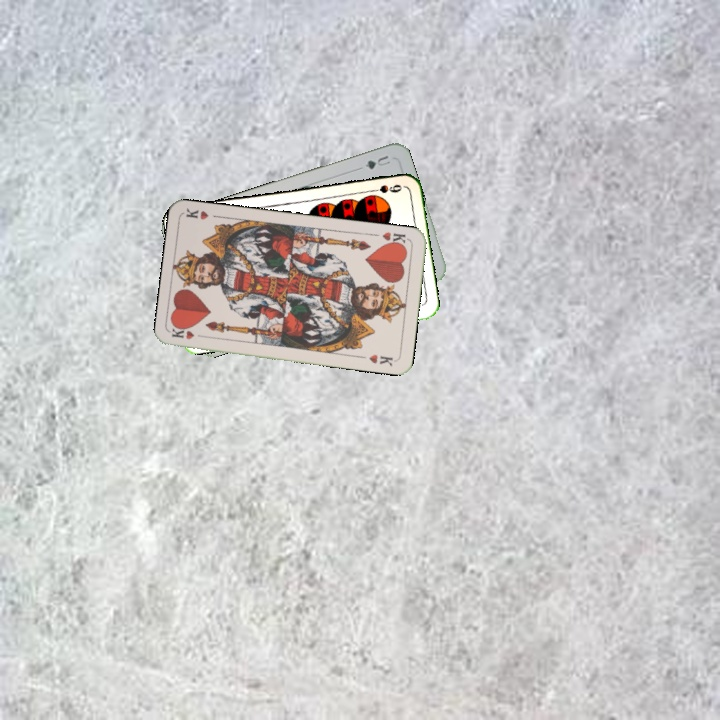GU: (361, 151, 393, 172)
HK: (168, 324, 209, 342), (378, 228, 411, 249)
S9: (365, 180, 405, 201)
